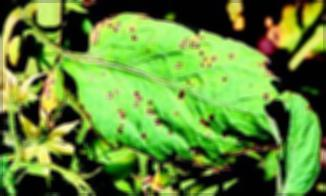Tomato leaf bacterial spot: (64, 14, 283, 160)
